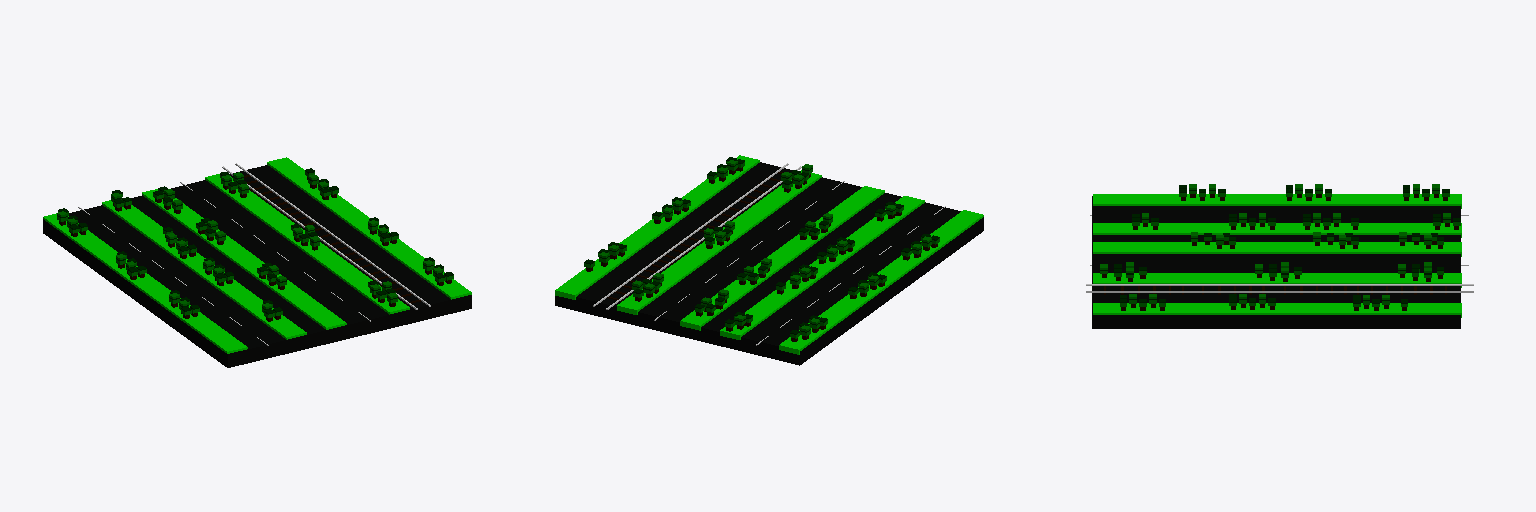
File: Mundo.obj
3 views of the same model, side by side, from view 1: azimuth 30°, elevation 25°; view 2: azimuth 150°, elevation 25°; view 3: azimuth 270°, elevation 25° (orthographic).
Visible parts, largest first — view 1: Cube.014; view 2: Cube.014; view 3: Cube.014.
Part boxes in pixels (x1,y1,x2,y2): Cube.014: (43, 157, 471, 367); Cube.014: (555, 155, 983, 365); Cube.014: (1086, 184, 1473, 328).
Size of the model in its own units: 111 by 11.91 by 152.